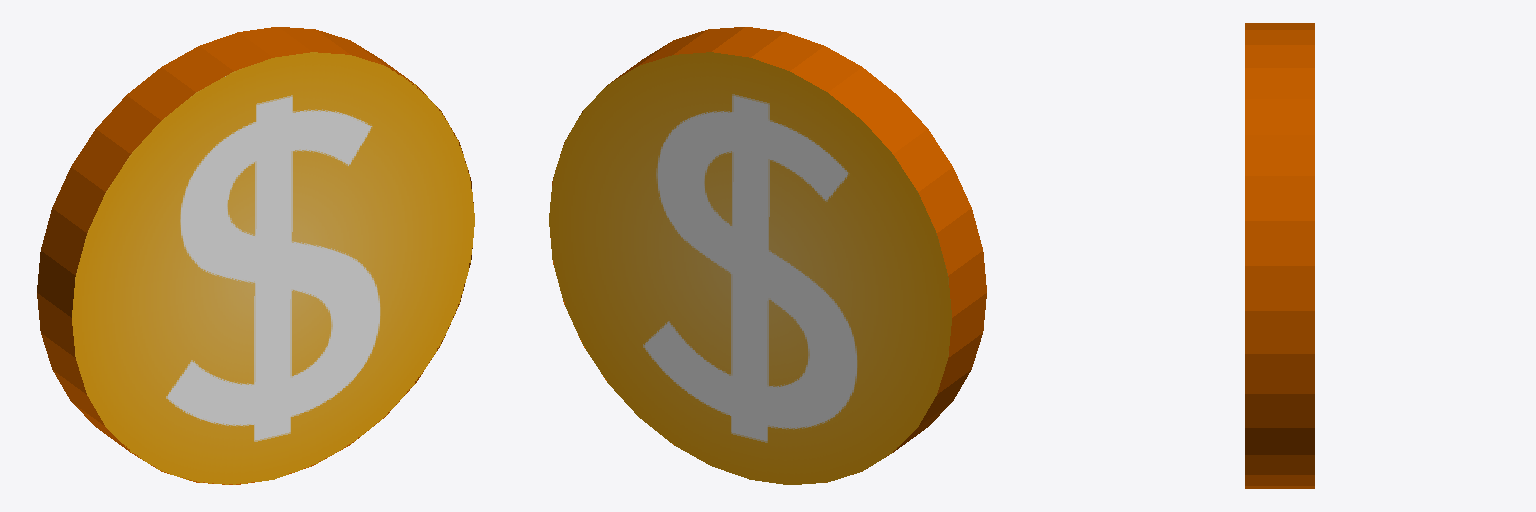
3 views of the same model, side by side, from view 1: azimuth 30°, elevation 25°; view 2: azimuth 150°, elevation 25°; view 3: azimuth 270°, elevation 25° (orthographic).
Visible parts, largest first — view 1: Cylinder; view 2: Cylinder; view 3: Cylinder.
Boxes of the visible parts, x1,y1,x2,y2 form: Cylinder: [37, 27, 474, 484]; Cylinder: [549, 27, 986, 484]; Cylinder: [1245, 23, 1314, 488].
Bounding box in the file's own units: 2 × 2 × 0.3.
Materials: 3 (1 with a texture image).